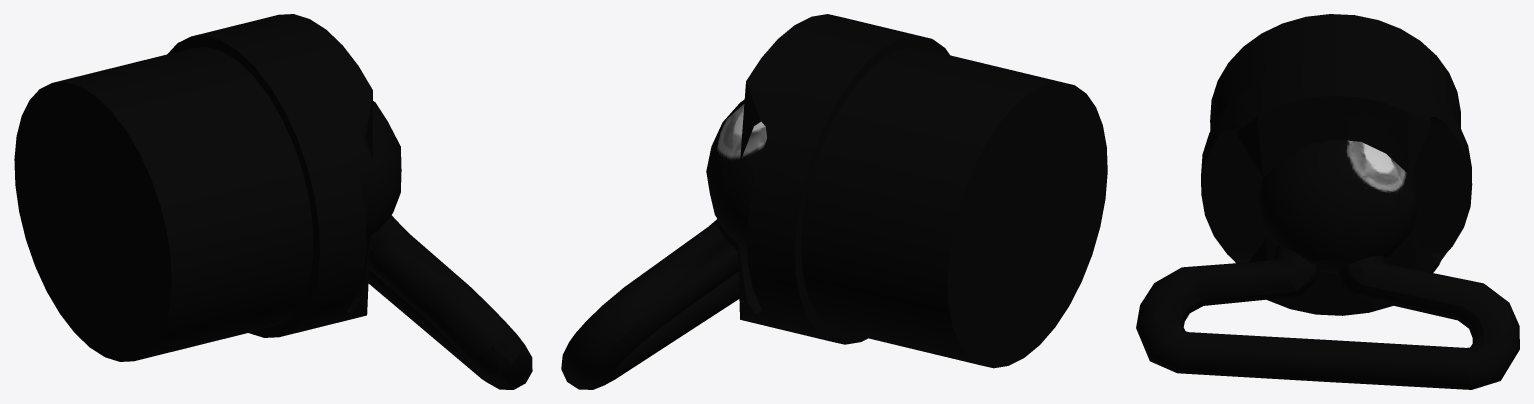
The model's file is R4C-Charm-Holder.glb.
The picture shows the model from 3 angles, left to right: view 1: azimuth 30°, elevation 25°; view 2: azimuth 150°, elevation 25°; view 3: azimuth 270°, elevation 25°; orthographic projection. The views are drawn at different scales.
Parts seen in each view (by area): view 1: R4C Charm Holder; view 2: R4C Charm Holder; view 3: R4C Charm Holder.
Boxes of the visible parts, x1,y1,x2,y2 form: R4C Charm Holder: (14,14,532,389); R4C Charm Holder: (561,14,1107,389); R4C Charm Holder: (1136,14,1519,389).
Size of the model in its own units: 0.0102 by 0.00853 by 0.0118.
Materials: 1 (1 with a texture image).
